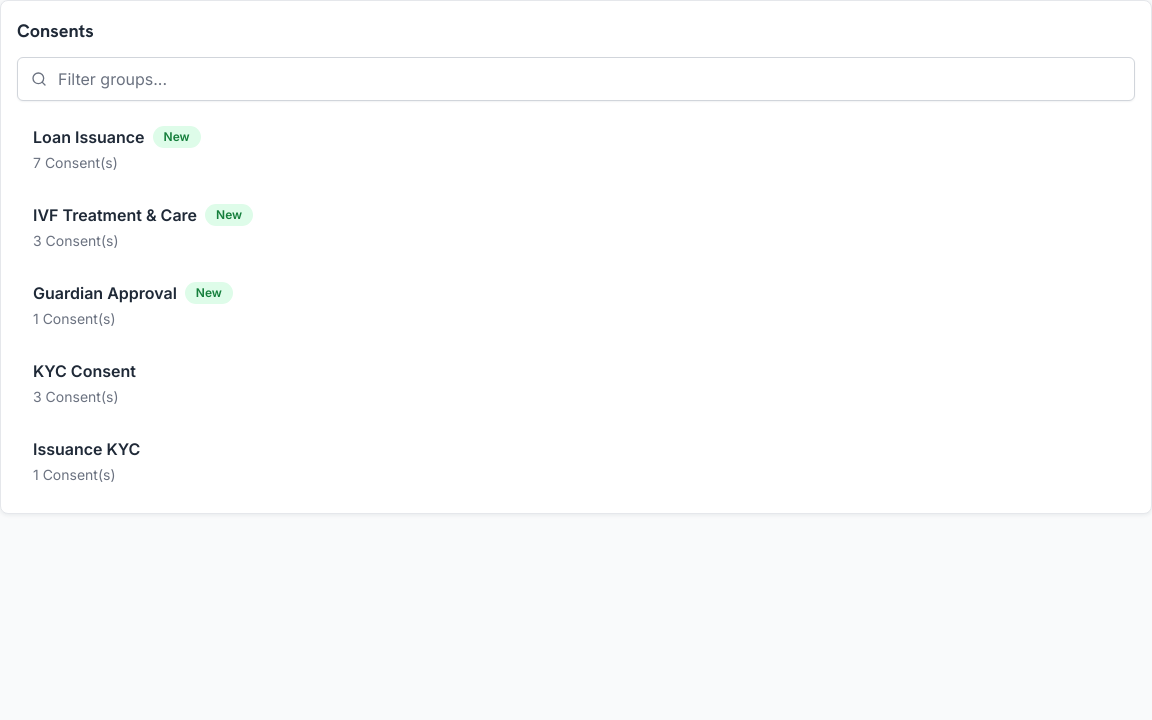
Test case: ConsentGroupsList › shows an empty state when nothing matches
The width and height of the screenshot is (1152, 720).
Step 1. Type "zzz-no-such-group-zzz" into the search field named "Search groups" → (576, 79), box [17,57,1135,101]
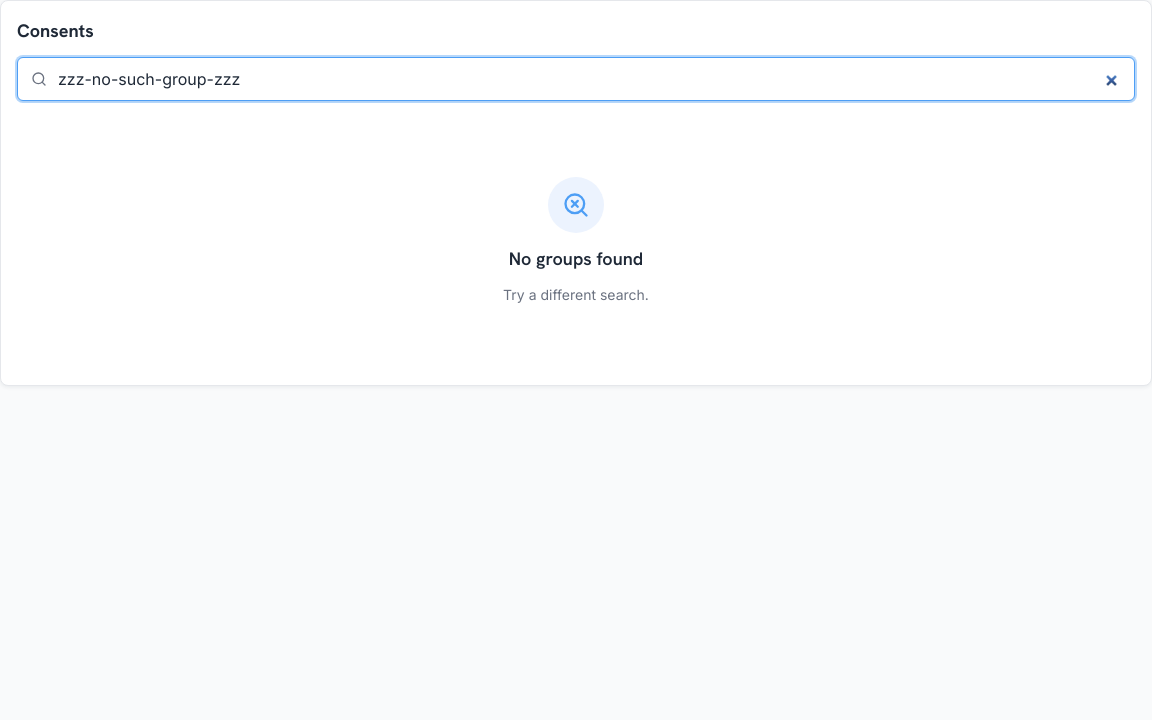
expect the heading "No groups found" is shown: met, box [509,245,643,273]
